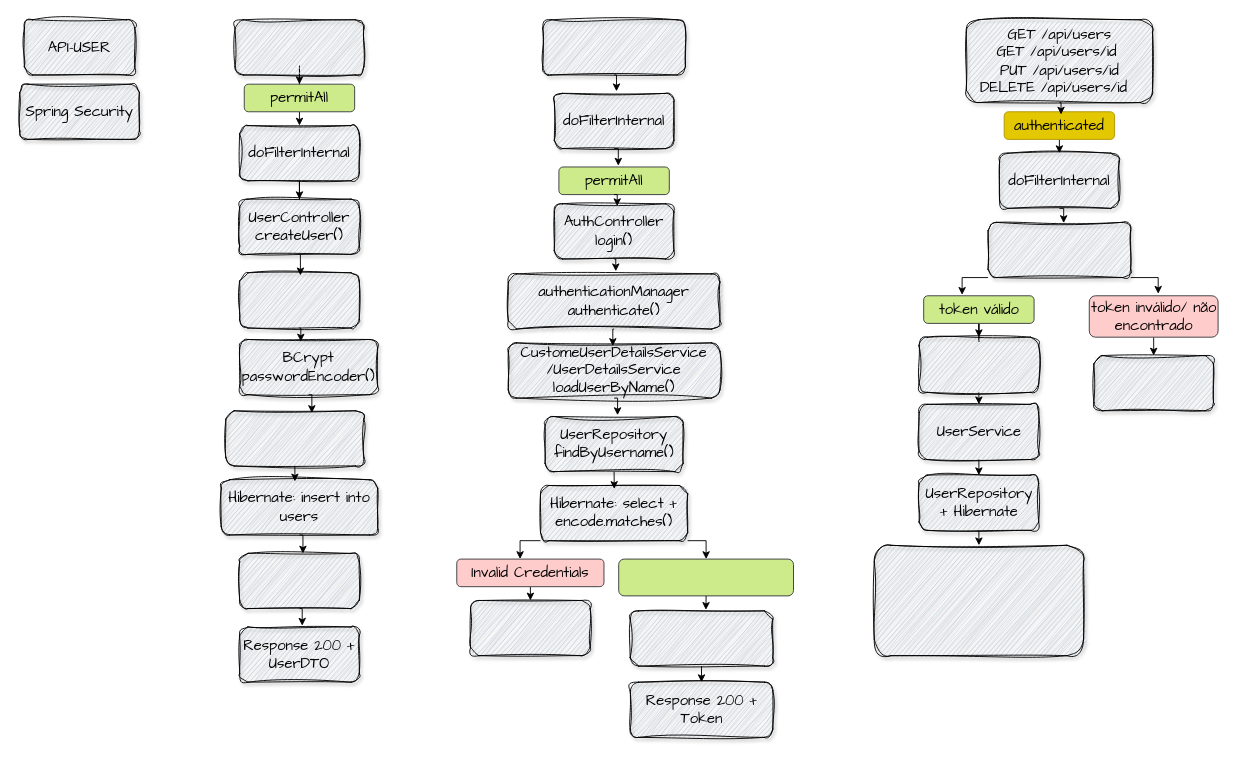
Image size: 1236x760. Some labels were removed from this diagram. The centre of each missing label's shape, as x and y in pixels:
"convert to UserDTO" goes at point (300, 582).
"JwtTokenProvider createToken()" goes at point (702, 639).
"JwtTokenProvider isTokenValid()" goes at point (1059, 251).
"POST /api/users" goes at point (299, 48).
"POST /auth/login" goes at point (614, 48).
"Response 200, 404 + list 200, 404 + UserDTO 200, 404, 400 + UserDTO 204, 404" goes at point (979, 601).
"Response 401" goes at point (531, 629).
"Response 403" goes at point (1154, 384).
"Successful authentication" goes at point (706, 577).
"UserController" goes at point (979, 366).
"UserRepository save()" goes at point (295, 439).
"UserService createUser()" goes at point (300, 301).
